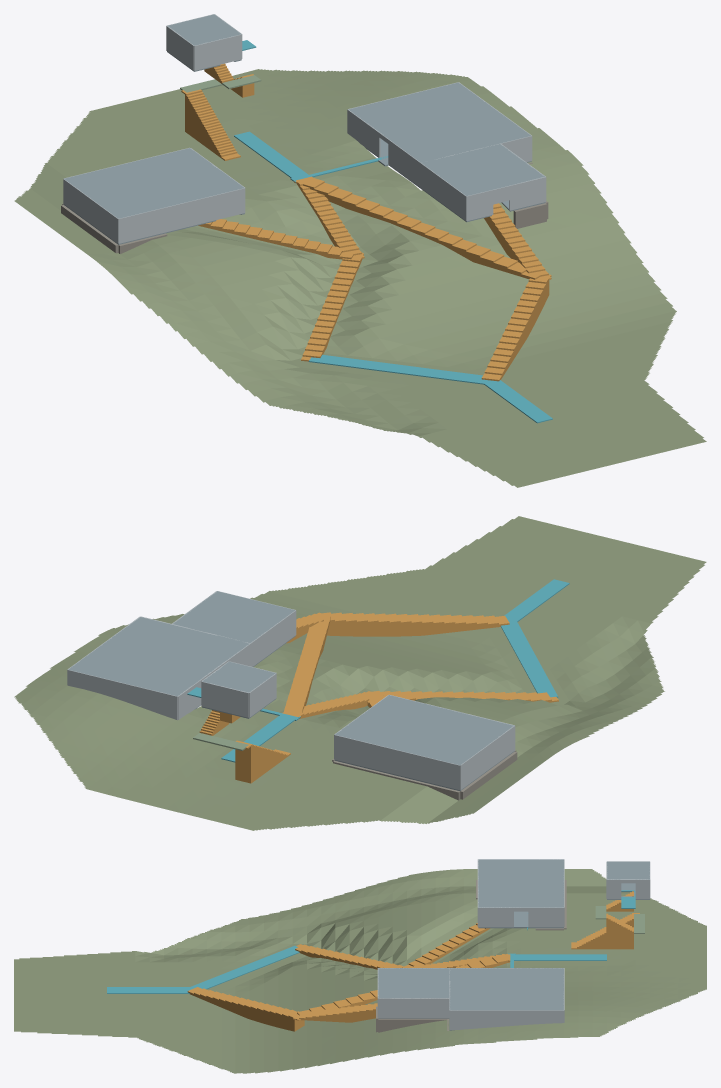
Rendered from benched-terrain.glb.
3 views of the same model, one above another, from view 1: azimuth 30°, elevation 25°; view 2: azimuth 150°, elevation 25°; view 3: azimuth 270°, elevation 25° (orthographic). The views are drawn at different scales.
Visible parts, largest first — view 1: Saved editor stair bench terrain WLD-04, Ceiling cap ruin, Ceiling cap hut, Ceiling cap store, Wall hut S, Opened stair shell Wall store S, L02 support 0, Wall hut W, Ceiling cap cab, Wall cab S, Wall store W, Wall ruin W (+2 smaller); view 2: Saved editor stair bench terrain WLD-04, Ceiling cap ruin, Ceiling cap hut, Ceiling cap store, Wall hut N, Wall ruin N, Wall hut W, L02 support 0, Ceiling cap cab, Wall cab N, Wall store W, Wall cab W (+3 smaller); view 3: Saved editor stair bench terrain WLD-04, Ceiling cap ruin, Ceiling cap hut, Ceiling cap store, Wall ruin E, Wall store E, L02 support 0, Ceiling cap cab, Wall hut E, Wall hut E.001.
Part boxes in pixels (x1,y1,x2,y2): Saved editor stair bench terrain WLD-04: (14,69,706,487); Ceiling cap ruin: (348,82,530,162); Ceiling cap hut: (64,148,243,218); Ceiling cap store: (421,144,544,195); Wall hut S: (118,188,245,243); Opened stair shell Wall store S: (466,177,545,220); L02 support 0: (308,354,489,384); Wall hut W: (63,179,118,243); Ceiling cap cab: (168,14,241,45); Wall cab S: (194,34,241,70); Wall store W: (420,163,466,220); Wall ruin W: (347,109,380,157); Saved editor stair bench terrain WLD-04: (14,516,706,830); Ceiling cap ruin: (68,617,249,696); Ceiling cap hut: (335,695,513,765); Ceiling cap store: (173,591,294,643); Wall hut N: (334,735,460,790); Wall ruin N: (67,669,177,720); Wall hut W: (460,725,515,789); L02 support 0: (500,620,558,697); Ceiling cap cab: (202,661,275,692); Wall cab N: (201,681,248,717); Wall store W: (250,610,296,666); Wall cab W: (249,673,276,717); Saved editor stair bench terrain WLD-04: (14,869,706,1073); Ceiling cap ruin: (449,968,563,1010); Ceiling cap hut: (478,859,563,907); Ceiling cap store: (378,968,449,998); Wall ruin E: (449,1010,563,1029); Wall store E: (378,998,449,1017); L02 support 0: (191,946,299,989); Ceiling cap cab: (607,861,649,879); Wall hut E: (528,907,563,927); Wall hut E.001: (478,907,513,927).
Bounding box in the file's own units: 59 × 19.15 × 97.
